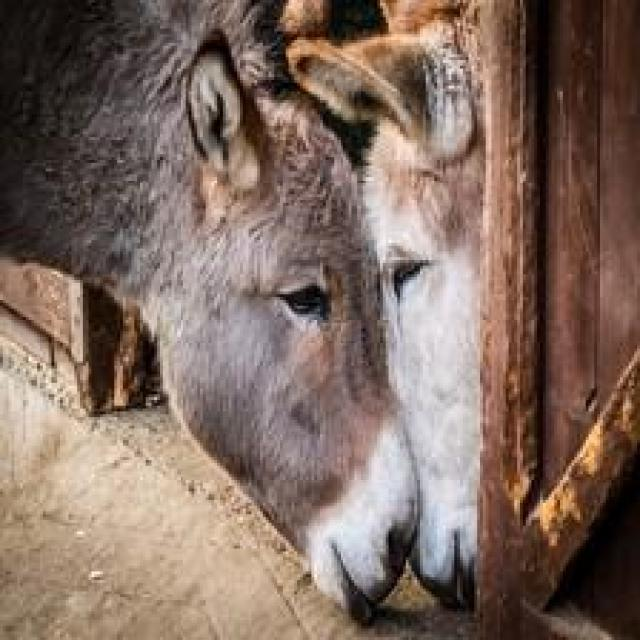Donkey: (0, 0, 417, 626), (283, 0, 483, 611), (474, 0, 637, 637)
